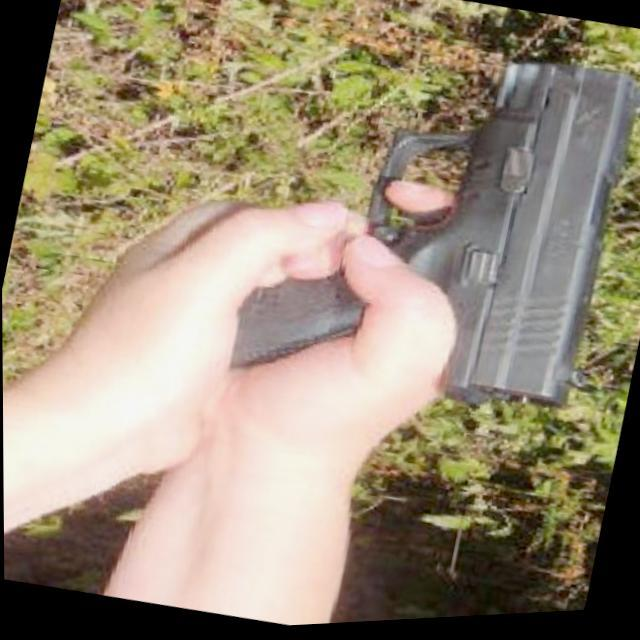gun: (221, 5, 640, 450)
